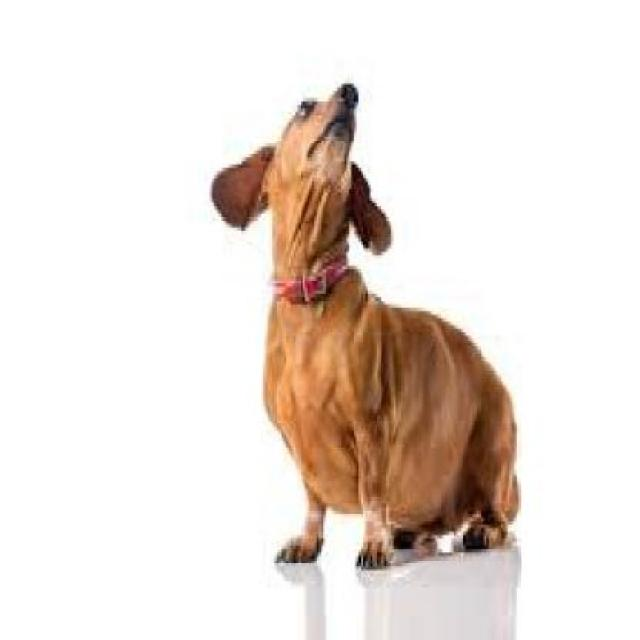Dog: (212, 82, 531, 570)
